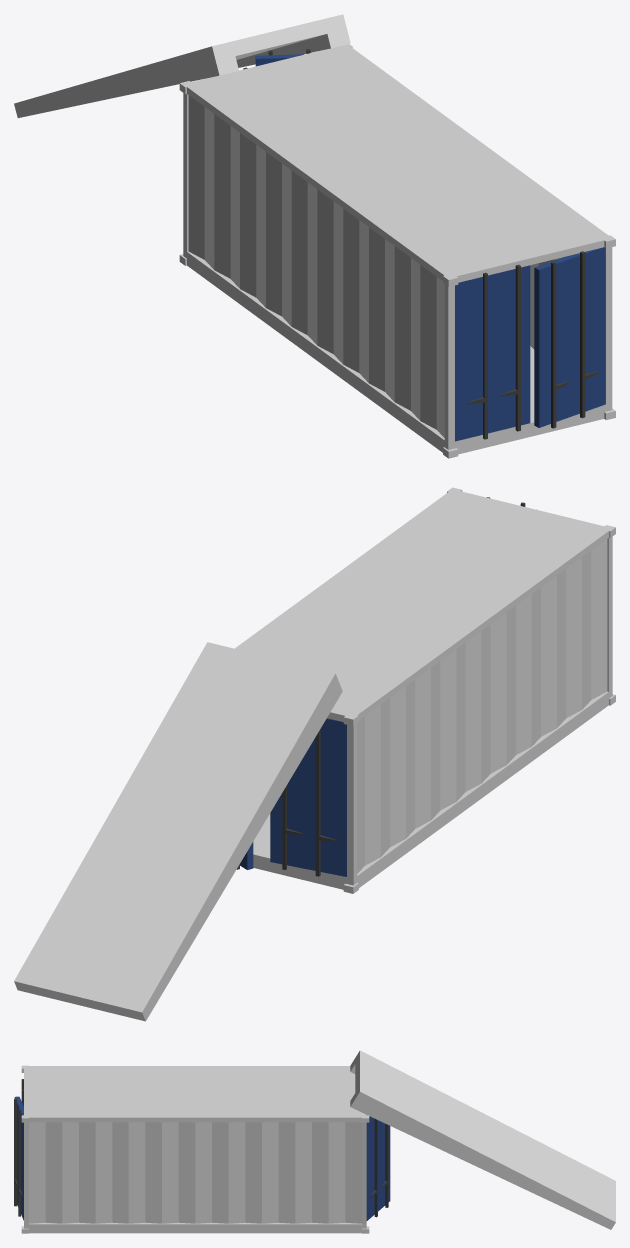
The model's file is Container and plank.fbx.
3 renders of one model, top to bottom at view 1: azimuth 30°, elevation 25°; view 2: azimuth 150°, elevation 25°; view 3: azimuth 270°, elevation 25°, orthographic. The views are drawn at different scales.
Visible parts, largest first — view 1: Container, Back_door_2, Back_door_1, Plank; view 2: Container, Plank, Front_door_2; view 3: Container, Plank, Front_door_1, Back_door_1.
Part boxes in pixels (left/top/right/bottom): Container: left=179, top=44, right=615, bottom=458; Back_door_2: left=455, top=264, right=530, bottom=441; Back_door_1: left=534, top=247, right=605, bottom=428; Plank: left=14, top=14, right=350, bottom=117; Container: left=235, top=487, right=615, bottom=893; Plank: left=14, top=642, right=342, bottom=1021; Front_door_2: left=270, top=718, right=346, bottom=876; Container: left=21, top=1065, right=369, bottom=1233; Plank: left=350, top=1050, right=615, bottom=1229; Front_door_1: left=366, top=1116, right=390, bottom=1220; Back_door_1: left=14, top=1096, right=23, bottom=1220.
Bounding box in the file's own units: 255 × 312 × 1229.
